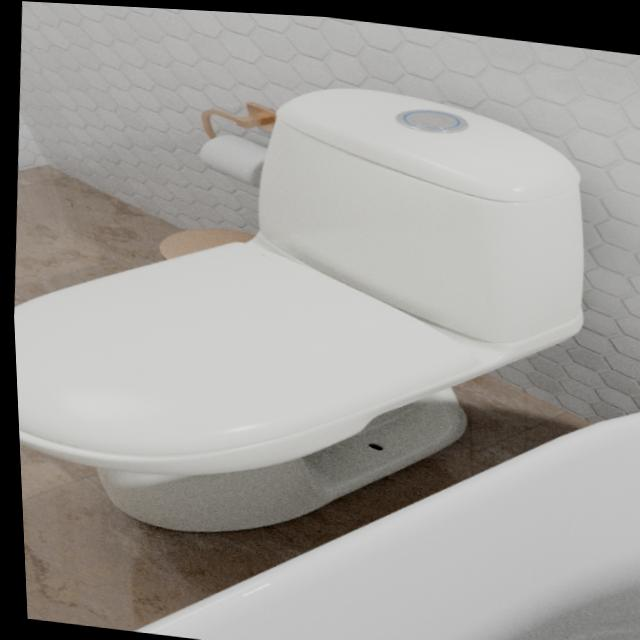toilet: (2, 45, 604, 574)
